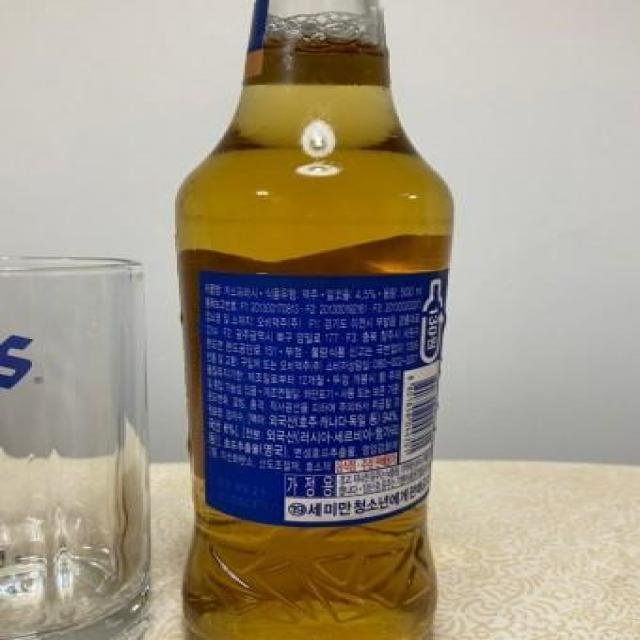beer-bottle: (163, 0, 451, 640)
